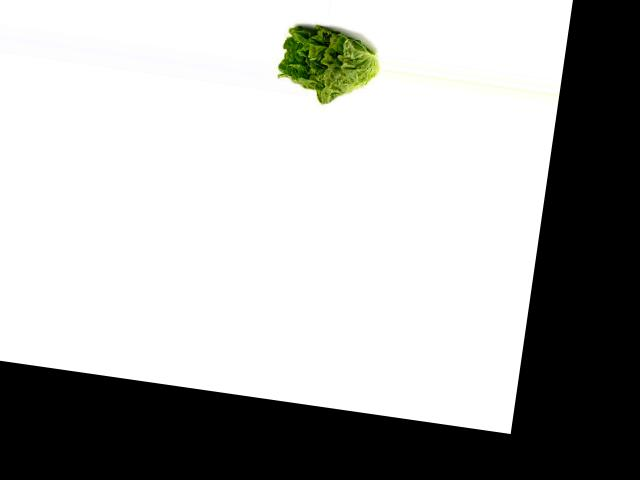lettuce: (274, 15, 384, 109)
